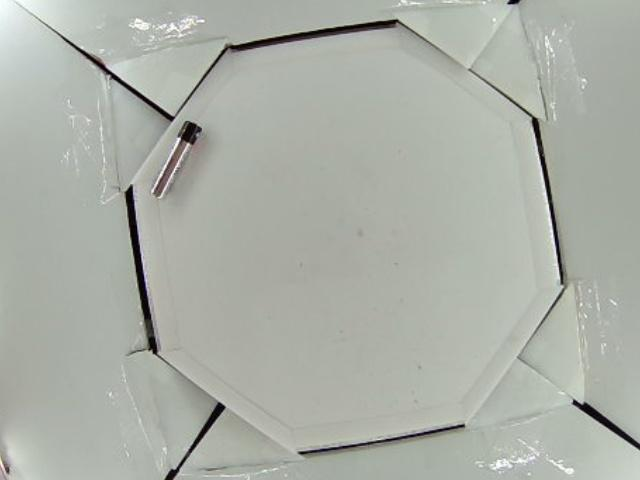Battery: (150, 121, 203, 200)
